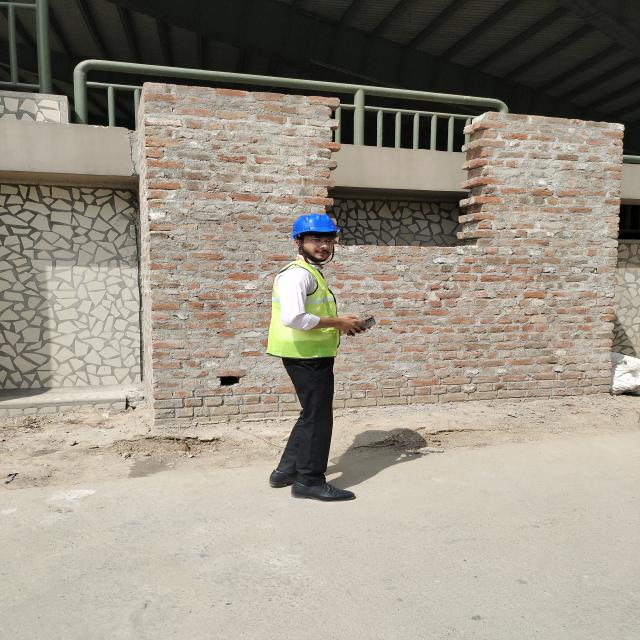safe: (267, 213, 355, 501)
